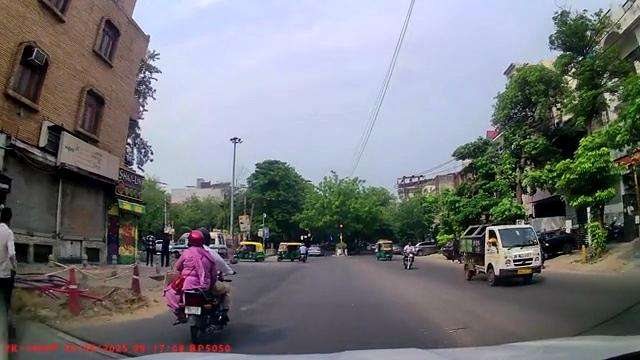passenger_with_helmet: (167, 226, 233, 342)
passenger_without_helmet: (167, 226, 233, 342)
